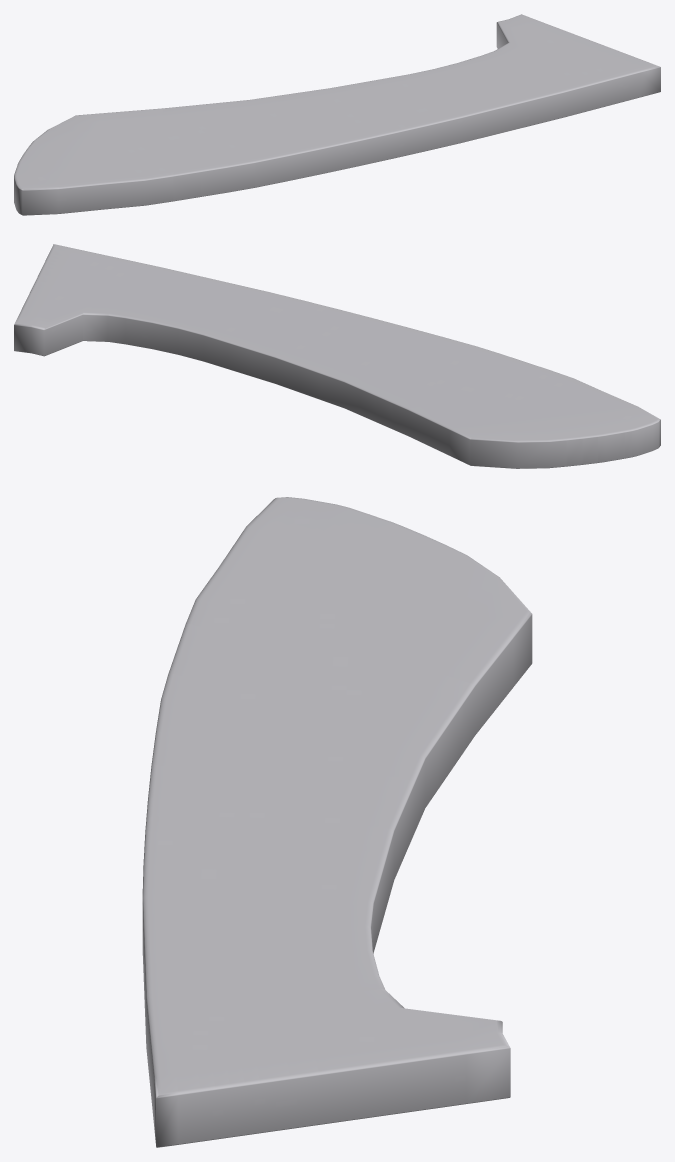
3 renders of one model, top to bottom at view 1: azimuth 30°, elevation 25°; view 2: azimuth 150°, elevation 25°; view 3: azimuth 270°, elevation 25°, orthographic. The views are drawn at different scales.
Size of the model in its own units: 0.517 by 0.024 by 0.1432.
Materials: 1 (1 with a texture image).
